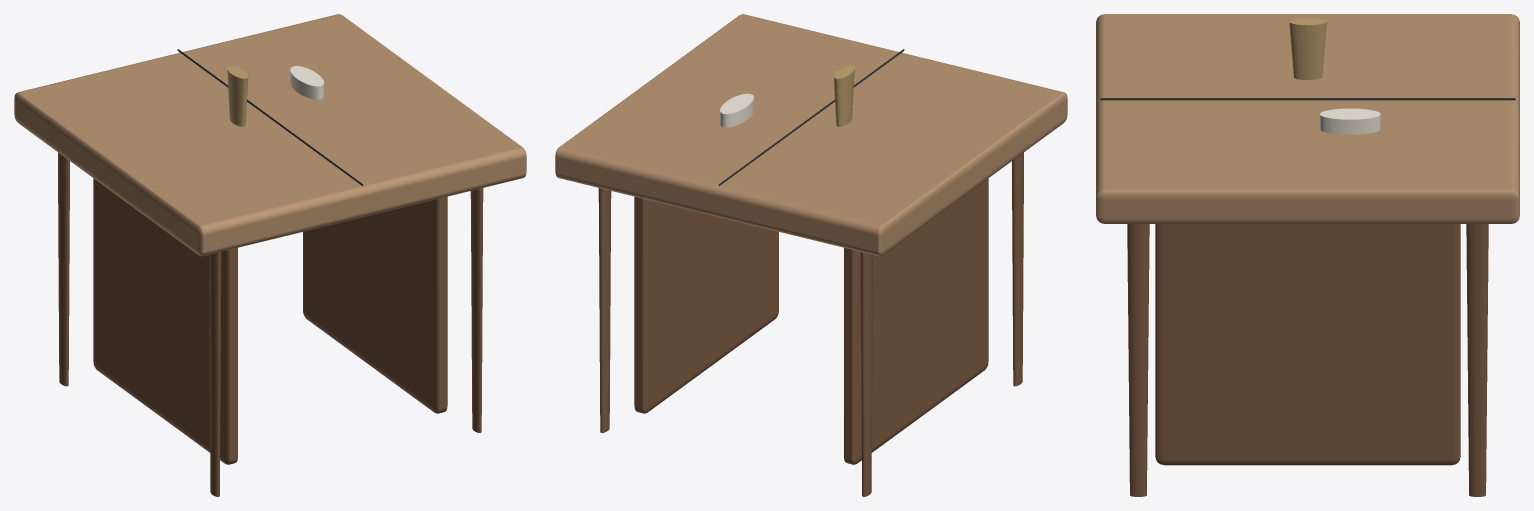
Rendered from table-4-2.glb.
3 views of the same model, side by side, from view 1: azimuth 30°, elevation 25°; view 2: azimuth 150°, elevation 25°; view 3: azimuth 270°, elevation 25° (orthographic). The views are drawn at different scales.
Parts seen in each view (by area): view 1: upholstery, part (×3); view 2: upholstery, part (×3); view 3: part (×3), upholstery, extension-seam.
Boxes of the visible parts, x1,y1,x2,y2 form: upholstery: (14, 14, 526, 256); part (×3): (58, 66, 483, 496); upholstery: (555, 14, 1067, 256); part (×3): (598, 66, 1023, 496); part (×3): (1127, 18, 1488, 496); upholstery: (1096, 14, 1519, 223); extension-seam: (1100, 98, 1515, 100).
Bounding box in the file's own units: 1 × 1 × 1.
